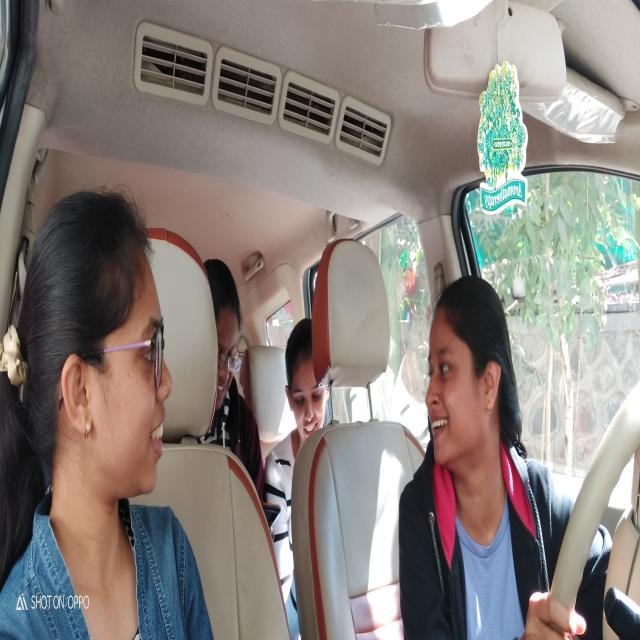LeftRight: (69, 208, 175, 490), (426, 296, 500, 465)
person: (284, 332, 329, 440), (213, 271, 244, 414)
talking: (427, 412, 452, 436), (152, 424, 169, 454)
